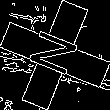N_E: (24, 27, 86, 83)
